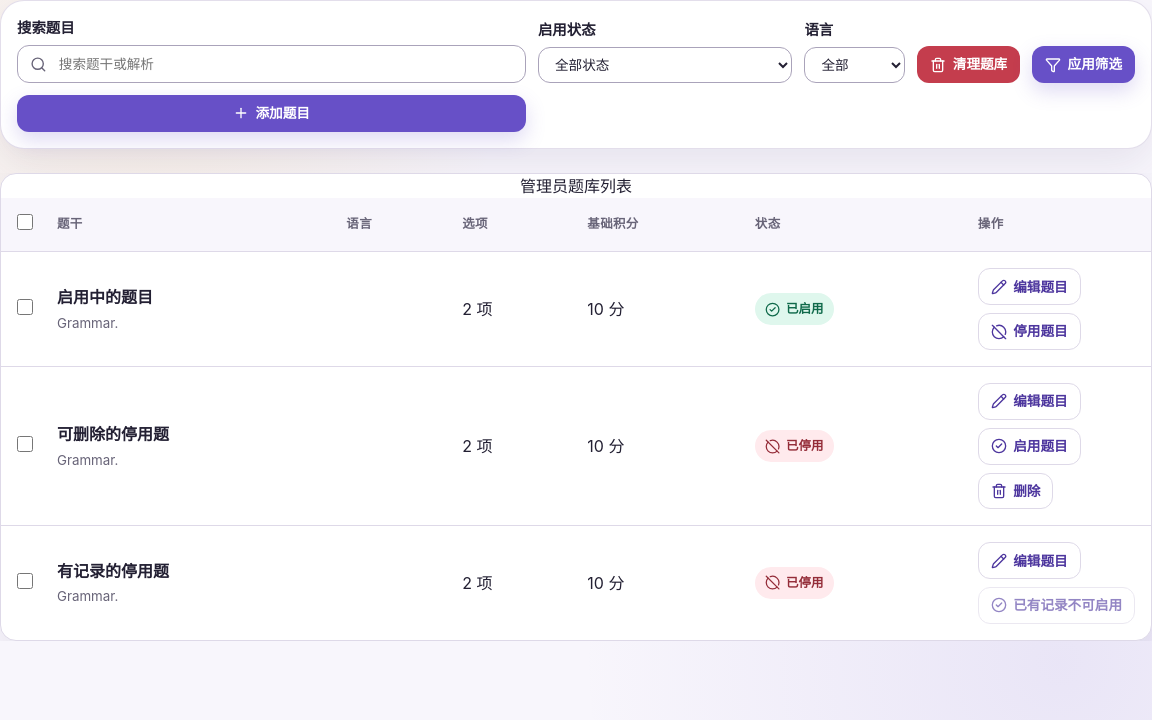
Scenario: AdminQuestionsPage 批量操作 › 全选当前页选中全部题目
expect the text "可删除的停用题" is shown: met, box [57,424,169,444]
Click the checkbox named "全选当前页": [25, 222] box [17,214,33,230]
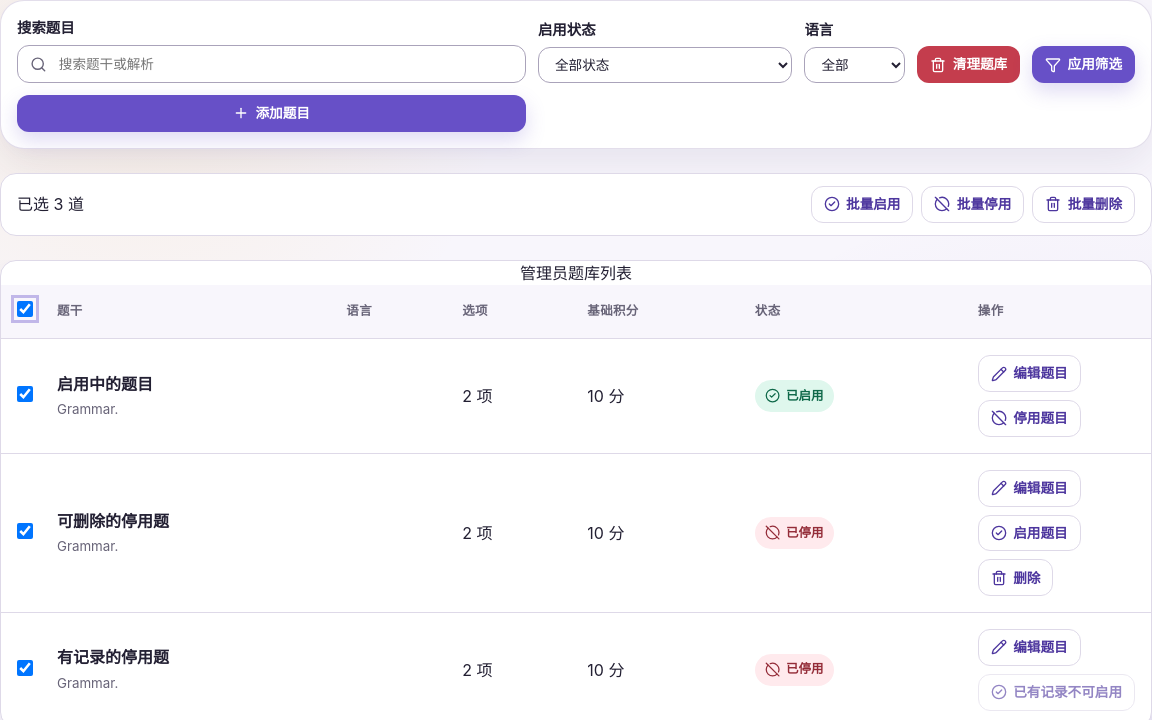
expect the text "已选 3 道" is shown: met, box [17,192,84,216]
